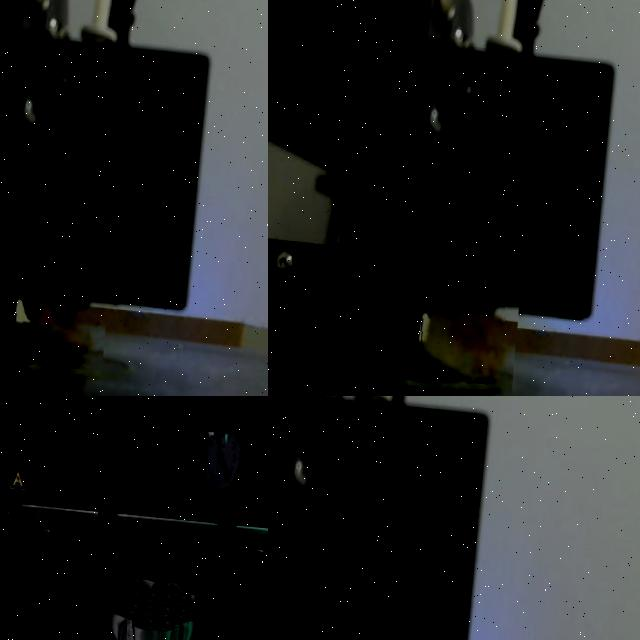spaghetti: (412, 297, 518, 396), (10, 306, 106, 372)
